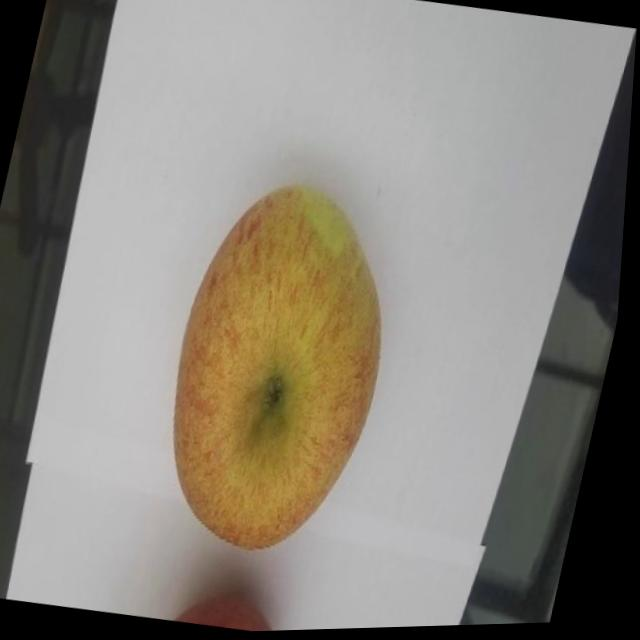Apple: (146, 170, 424, 568)
